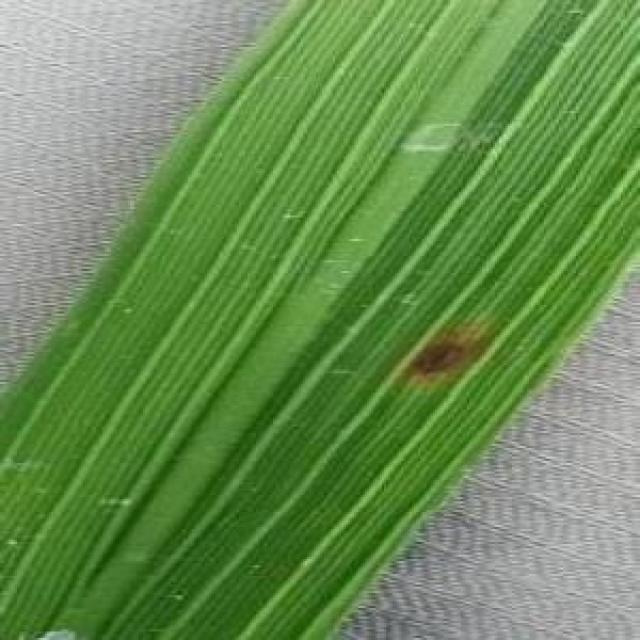Brown_Spot: (403, 331, 468, 387)
